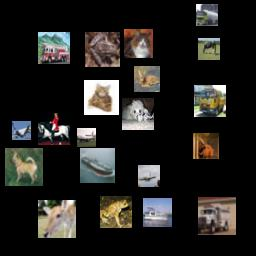airplane: (138, 165, 160, 187), (12, 121, 31, 140), (77, 128, 96, 147)
cat: (84, 80, 119, 115), (124, 29, 153, 58)
deer: (38, 200, 76, 238), (193, 133, 219, 159), (134, 66, 160, 92)
dog: (5, 148, 43, 186), (122, 98, 154, 130)
frog: (85, 32, 120, 67), (100, 196, 132, 228)
ship: (80, 148, 115, 183), (143, 198, 172, 227)
truck: (198, 197, 236, 235), (38, 32, 70, 64), (194, 85, 226, 117), (196, 4, 218, 26)
